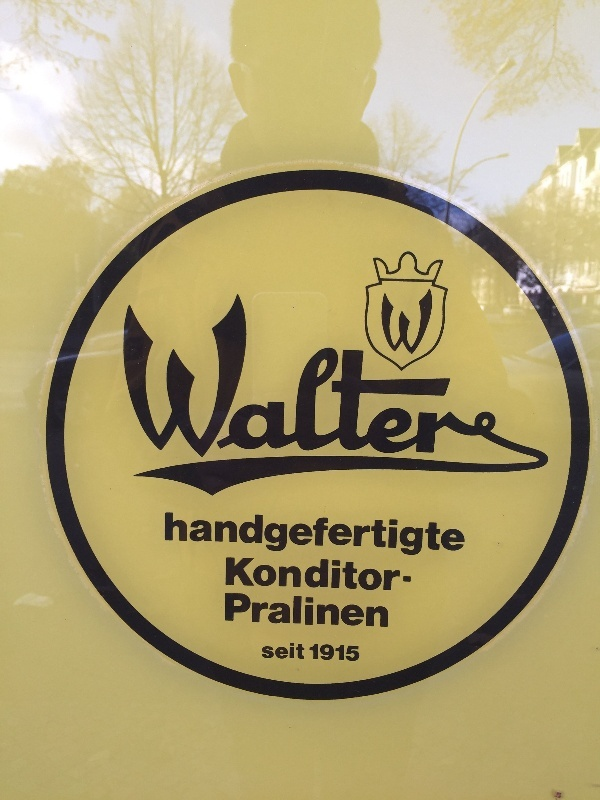text: (129, 271, 144, 458), (145, 271, 160, 458), (161, 271, 176, 458), (177, 271, 192, 458), (193, 271, 208, 458), (209, 271, 224, 458), (225, 271, 240, 458), (241, 271, 256, 458), (257, 271, 272, 458), (273, 271, 288, 458), (289, 271, 304, 458), (305, 271, 320, 458), (321, 271, 336, 458), (337, 271, 352, 458), (353, 271, 368, 458), (369, 271, 384, 458), (385, 271, 400, 458), (401, 271, 416, 458), (417, 271, 432, 458), (433, 271, 448, 458), (449, 271, 462, 458), (116, 271, 128, 458), (417, 288, 433, 357), (385, 288, 400, 357), (401, 288, 416, 357), (177, 509, 192, 569), (193, 509, 208, 569), (209, 509, 224, 569), (225, 509, 240, 569), (241, 509, 256, 569), (257, 509, 272, 569), (273, 509, 288, 569), (289, 509, 304, 569), (305, 509, 320, 569), (321, 509, 336, 569), (337, 509, 352, 569), (353, 509, 368, 569), (369, 509, 384, 569), (385, 509, 400, 569), (401, 509, 416, 569), (417, 509, 432, 569), (433, 509, 448, 569), (449, 509, 464, 569), (385, 545, 401, 592), (241, 545, 256, 592), (257, 545, 272, 592), (273, 545, 288, 592), (289, 545, 304, 592), (305, 545, 320, 592), (321, 545, 336, 592), (337, 545, 352, 592), (353, 545, 368, 592), (369, 545, 384, 592), (165, 509, 176, 569), (226, 545, 240, 592), (225, 593, 240, 628), (241, 593, 256, 628), (257, 593, 272, 628), (273, 593, 288, 628), (289, 593, 304, 628), (305, 593, 320, 628), (321, 593, 336, 628), (337, 593, 352, 628), (353, 593, 368, 628), (369, 593, 384, 628), (289, 641, 305, 663), (273, 641, 288, 663), (321, 645, 336, 664), (337, 645, 352, 664), (262, 641, 272, 663), (381, 288, 384, 357), (310, 645, 320, 664), (385, 593, 390, 628), (353, 645, 360, 664), (465, 509, 466, 569)
